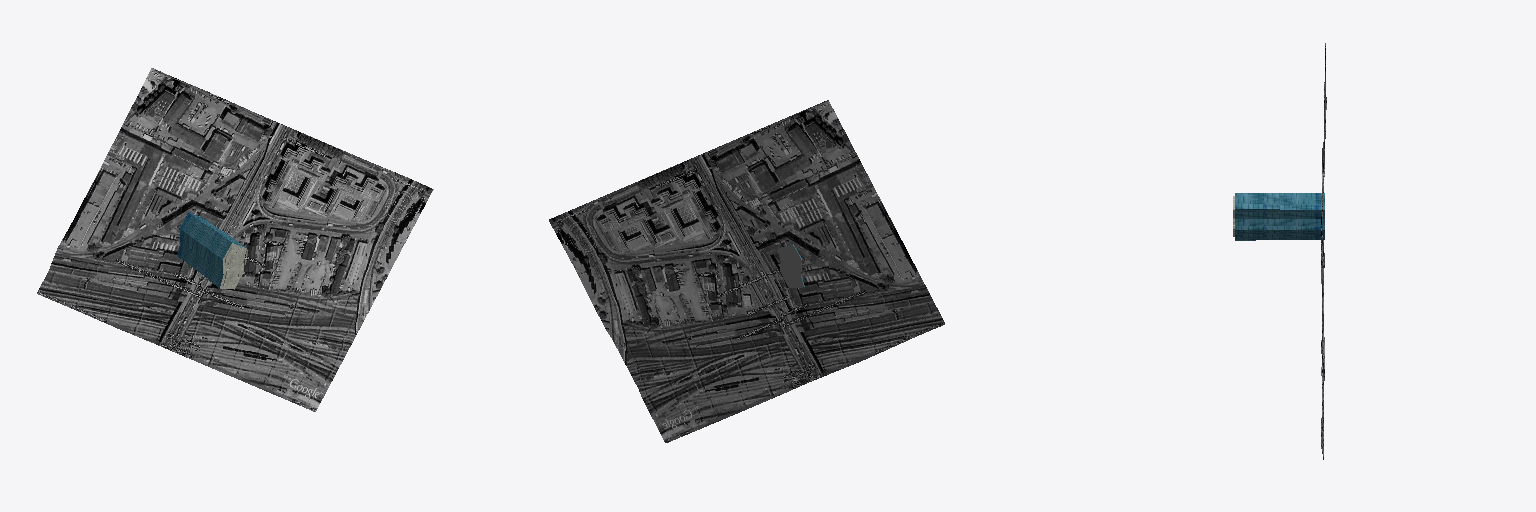
3 renders of one model, left to right at view 1: azimuth 30°, elevation 25°; view 2: azimuth 150°, elevation 25°; view 3: azimuth 270°, elevation 25°, orthographic.
Parts seen in each view (by area): view 1: Google Earth Snapshot, Prime-Tower-V34, Google Earth Terrain; view 2: Google Earth Terrain, Google Earth Snapshot, Prime-Tower-V34; view 3: Prime-Tower-V34, Google Earth Terrain.
Part boxes in pixels (bbox=[...]): Google Earth Snapshot: bbox=[37, 70, 433, 411]; Prime-Tower-V34: bbox=[177, 212, 246, 289]; Google Earth Terrain: bbox=[38, 68, 427, 351]; Google Earth Terrain: bbox=[549, 102, 944, 442]; Google Earth Snapshot: bbox=[551, 100, 944, 386]; Prime-Tower-V34: bbox=[777, 244, 804, 287]; Prime-Tower-V34: bbox=[1233, 193, 1324, 240]; Google Earth Terrain: bbox=[1321, 43, 1326, 459].
Size of the model in its own units: 25707 by 23668 by 5231.
Materials: 4 (3 with a texture image).